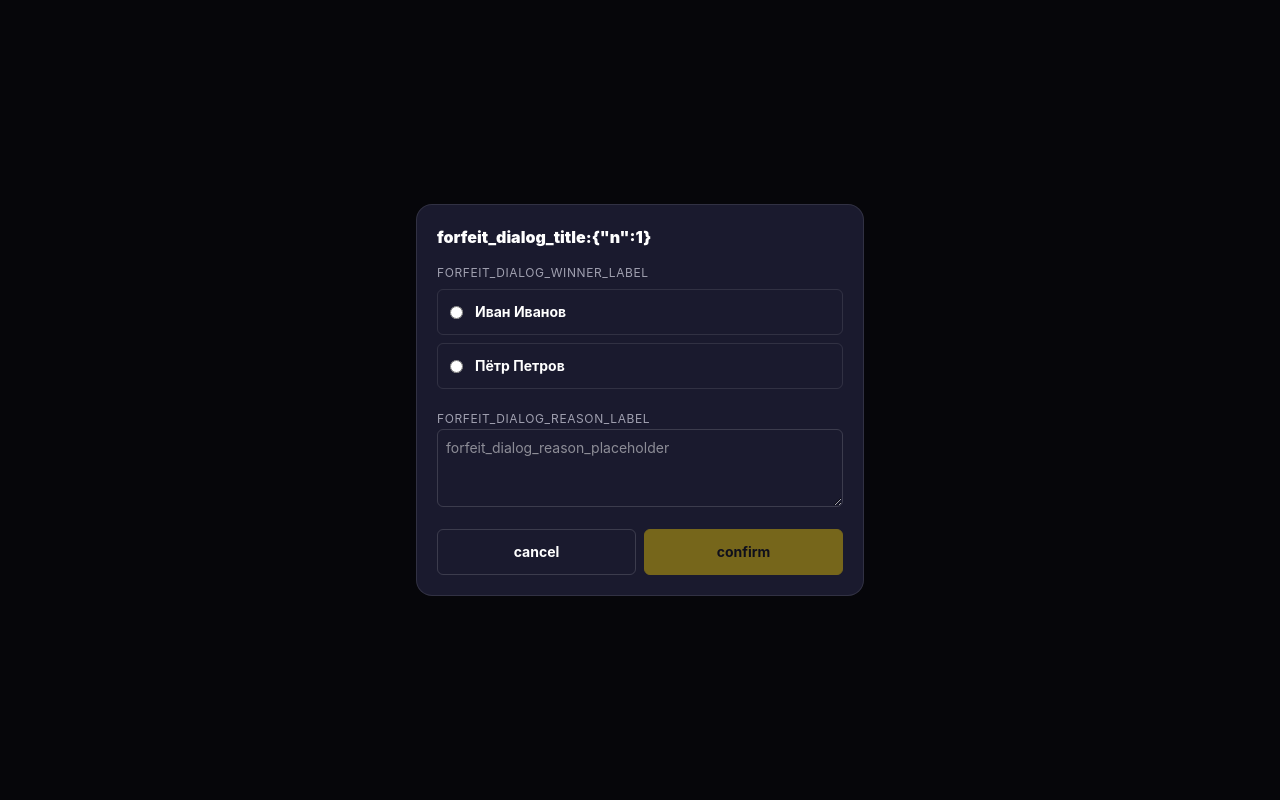
Test: ForfeitDialog › renders engine 400 verbatim
This screenshot has width=1280, height=800.
Click the radio button labelled "Иван Иванов" at x=456, y=312, box [450,306,463,318]
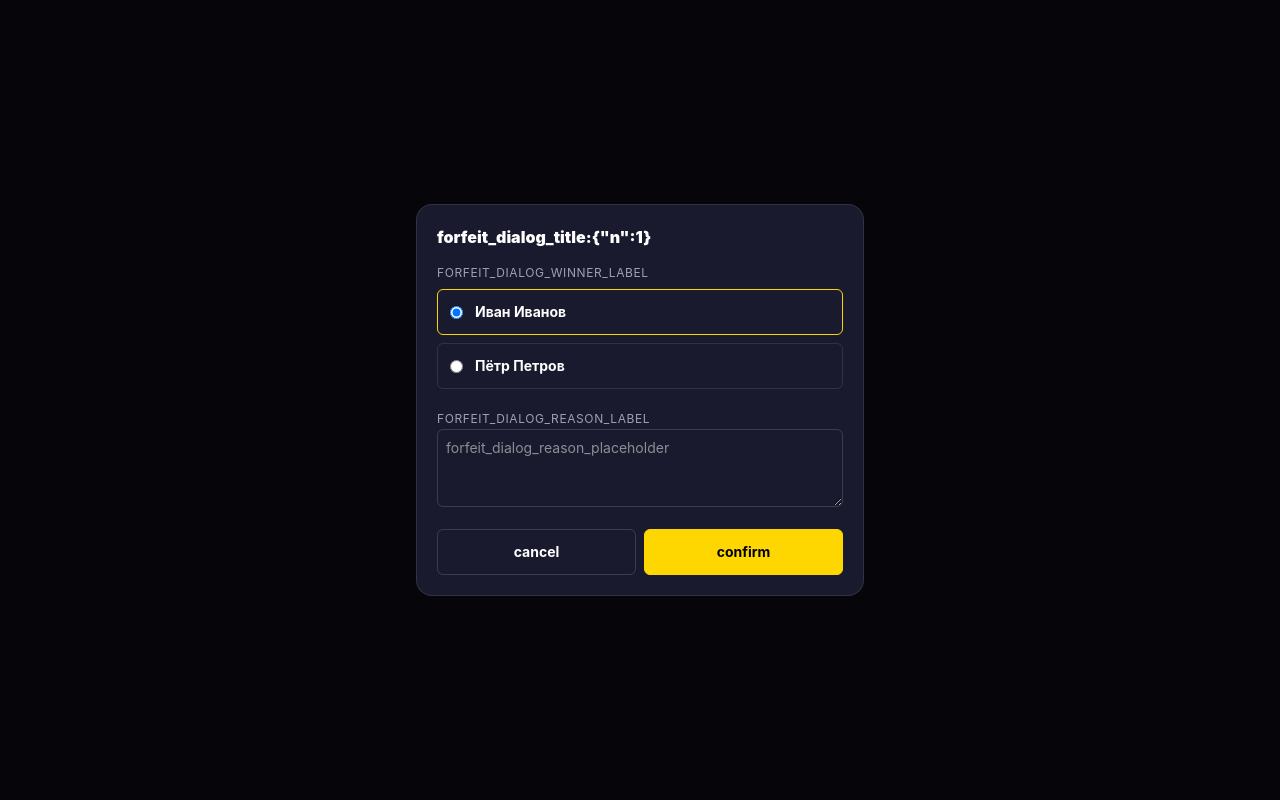
Click the button "confirm" at x=744, y=552, box [644,529,843,575]
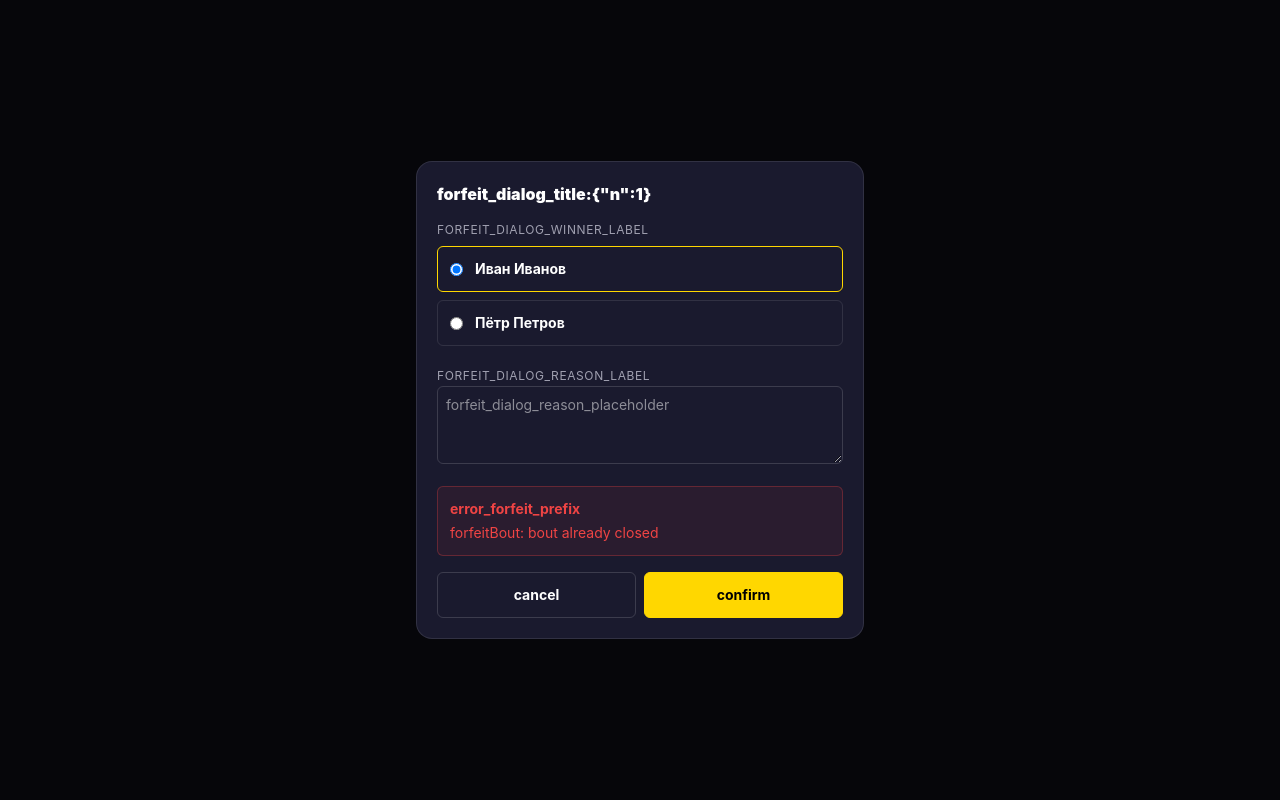
Expected: the text "forfeitBout: bout already closed" is shown, [450,524,658,541]
